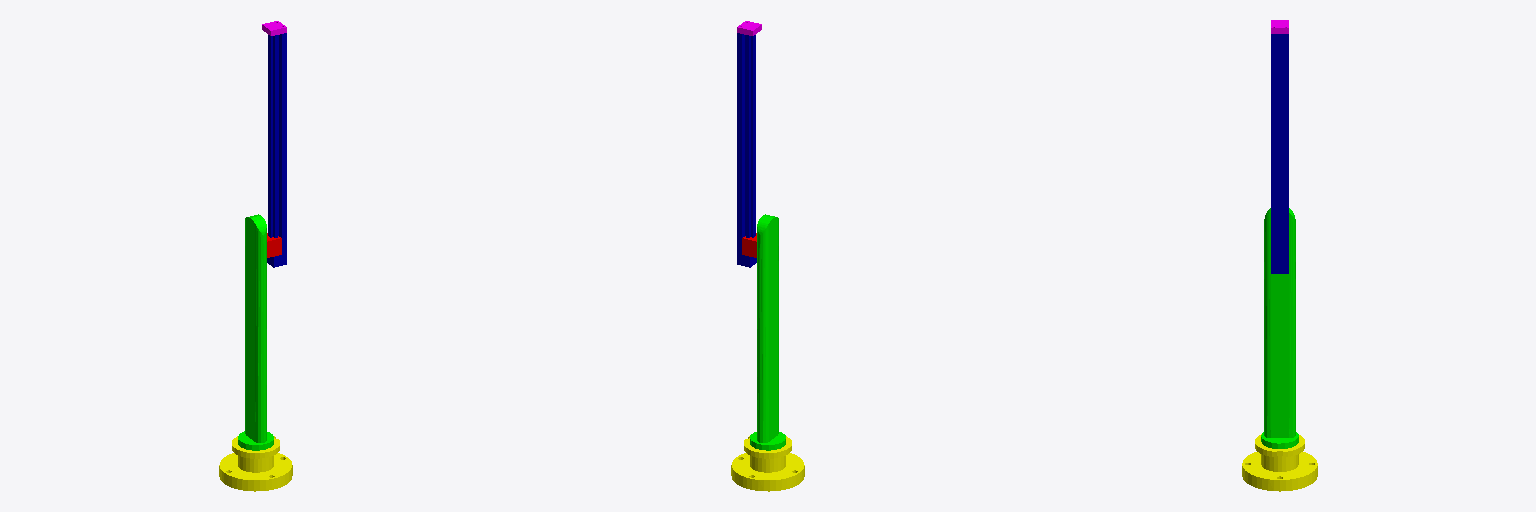
URDF robot description (Polar_Robot):
<?xml version="1.0" encoding="utf-8"?>
<!-- This URDF was automatically created by SolidWorks to URDF Exporter! Originally created by [author] ([email redacted]) 
     Commit Version: 1.6.0-1-g15f4949  Build Version: 1.6.7594.29634
     For more information, please see http://wiki.ros.org/sw_urdf_exporter -->
<robot
  name="Polar_Robot">
  <link
    name="Base">
    <inertial>
      <origin
        xyz="-0.000270388097905583 -1.66533453693773E-16 -1.96639513094953"
        rpy="0 0 0" />
      <mass
        value="38.0370424922611" />
      <inertia
        ixx="0.996251572071299"
        ixy="5.23572695976942E-17"
        ixz="0.00183162497118519"
        iyy="0.994324660656797"
        iyz="8.5713540873415E-16"
        izz="1.43246631952246" />
    </inertial>
    <visual>
      <origin
        xyz="0 0 0"
        rpy="0 0 0" />
      <geometry>
        <mesh
          filename="package://Polar_Robot/meshes/Base.STL" />
      </geometry>
      <material
        name="">
        <color
          rgba="1 1 0 1" />
      </material>
    </visual>
    <collision>
      <origin
        xyz="0 0 0"
        rpy="0 0 0" />
      <geometry>
        <mesh
          filename="package://Polar_Robot/meshes/Base.STL" />
      </geometry>
    </collision>
  </link>
  <link
    name="Link_1">
    <inertial>
      <origin
        xyz="0.000531579148819683 1.0216652301942E-08 1.15021527463313"
        rpy="0 0 0" />
      <mass
        value="55.4053905279187" />
      <inertia
        ixx="25.0151986713678"
        ixy="3.10114403599607E-07"
        ixz="-0.0268926087915857"
        iyy="24.8517442692666"
        iyz="-8.93435507097765E-07"
        izz="0.308183677204965" />
    </inertial>
    <visual>
      <origin
        xyz="0 0 0"
        rpy="0 0 0" />
      <geometry>
        <mesh
          filename="package://Polar_Robot/meshes/Link_1.STL" />
      </geometry>
      <material
        name="">
        <color
          rgba="0 1 0 1" />
      </material>
    </visual>
    <collision>
      <origin
        xyz="0 0 0"
        rpy="0 0 0" />
      <geometry>
        <mesh
          filename="package://Polar_Robot/meshes/Link_1.STL" />
      </geometry>
    </collision>
  </link>
  <joint
    name="J1"
    type="continuous">
    <origin
      xyz="0 0 -2.0633"
      rpy="0 0 0" />
    <parent
      link="Base" />
    <child
      link="Link_1" />
    <axis
      xyz="0 0 1" />
  </joint>
  <link
    name="Link_2">
    <inertial>
      <origin
        xyz="0.121196728745009 1.11022302462516E-16 0"
        rpy="0 0 0" />
      <mass
        value="2.23230091830128" />
      <inertia
        ixx="0.0103685011478766"
        ixy="-2.74957760687209E-18"
        ixz="3.92947890310864E-19"
        iyy="0.00858058811342199"
        iyz="-4.6296680582396E-19"
        izz="0.00959621311342197" />
    </inertial>
    <visual>
      <origin
        xyz="0 0 0"
        rpy="0 0 0" />
      <geometry>
        <mesh
          filename="package://Polar_Robot/meshes/Link_2.STL" />
      </geometry>
      <material
        name="">
        <color
          rgba="1 0 0 1" />
      </material>
    </visual>
    <collision>
      <origin
        xyz="0 0 0"
        rpy="0 0 0" />
      <geometry>
        <mesh
          filename="package://Polar_Robot/meshes/Link_2.STL" />
      </geometry>
    </collision>
  </link>
  <joint
    name="J2"
    type="continuous">
    <origin
      xyz="0 0 2.0633"
      rpy="0 0 0" />
    <parent
      link="Link_1" />
    <child
      link="Link_2" />
    <axis
      xyz="1 0 0" />
  </joint>
  <link
    name="Link_3">
    <inertial>
      <origin
        xyz="0.199121856849533 5.55111512312578E-17 0.851367974982562"
        rpy="0 0 0" />
      <mass
        value="26.8687168146928" />
      <inertia
        ixx="10.2875221281938"
        ixy="1.27745302534405E-18"
        ixz="-0.0227187464895494"
        iyy="10.2836069397478"
        iyz="-7.8936468260585E-17"
        izz="0.0697509981348238" />
    </inertial>
    <visual>
      <origin
        xyz="0 0 0"
        rpy="0 0 0" />
      <geometry>
        <mesh
          filename="package://Polar_Robot/meshes/Link_3.STL" />
      </geometry>
      <material
        name="">
        <color
          rgba="0 0 0.752941176470588 1" />
      </material>
    </visual>
    <collision>
      <origin
        xyz="0 0 0"
        rpy="0 0 0" />
      <geometry>
        <mesh
          filename="package://Polar_Robot/meshes/Link_3.STL" />
      </geometry>
    </collision>
  </link>
  <joint
    name="J3"
    type="prismatic">
    <origin
      xyz="0 0 0"
      rpy="0 0 0" />
    <parent
      link="Link_2" />
    <child
      link="Link_3" />
    <axis
      xyz="0 0 1" />
    <limit
      lower="0"
      upper="0"
      effort="0"
      velocity="0" />
  </joint>
  <link
    name="End_Effector">
    <inertial>
      <origin
        xyz="0.173563625454221 -5.55111512312578E-17 -0.0250000000000004"
        rpy="0 0 0" />
      <mass
        value="1.0935840734641" />
      <inertia
        ixx="0.00225787980080187"
        ixy="-4.29275075951513E-19"
        ixz="1.16942283792537E-18"
        iyy="0.00225562354894145"
        iyz="6.31805644457427E-20"
        izz="0.00405784331913328" />
    </inertial>
    <visual>
      <origin
        xyz="0 0 0"
        rpy="0 0 0" />
      <geometry>
        <mesh
          filename="package://Polar_Robot/meshes/End_Effector.STL" />
      </geometry>
      <material
        name="">
        <color
          rgba="1 0 1 1" />
      </material>
    </visual>
    <collision>
      <origin
        xyz="0 0 0"
        rpy="0 0 0" />
      <geometry>
        <mesh
          filename="package://Polar_Robot/meshes/End_Effector.STL" />
      </geometry>
    </collision>
  </link>
  <joint
    name="F1"
    type="fixed">
    <origin
      xyz="0 0 1.9749"
      rpy="0 0 0" />
    <parent
      link="Link_3" />
    <child
      link="End_Effector" />
    <axis
      xyz="0 0 0" />
  </joint>
</robot>

--- What the picture shows (computed from the rendered views, not written in the file) ---
Views: 3 orthographic renders of the robot side by side, from view 1: azimuth 30°, elevation 25°; view 2: azimuth 150°, elevation 25°; view 3: azimuth 270°, elevation 25°.
Model Polar_Robot with 5 links and 4 joints (2 continuous, 1 prismatic, 1 fixed), rooted at Base, posed every joint at zero.
Visible links, largest first — view 1: Link_1, Link_3, Base; view 2: Link_1, Link_3, Base; view 3: Link_1, Link_3, Base.
Boxes of the visible links, x1,y1,x2,y2 form: Link_1: [238, 214, 273, 450]; Link_3: [267, 33, 286, 267]; Base: [219, 436, 292, 491]; Link_1: [750, 214, 785, 450]; Link_3: [737, 33, 756, 267]; Base: [731, 436, 804, 491]; Link_1: [1261, 208, 1298, 448]; Link_3: [1271, 34, 1288, 273]; Base: [1242, 434, 1317, 491].
Size in the robot's own frame: 0.6 by 0.598 by 4.04 metres.
5 mesh visuals loaded from 5 distinct referenced files (5 binary STL).